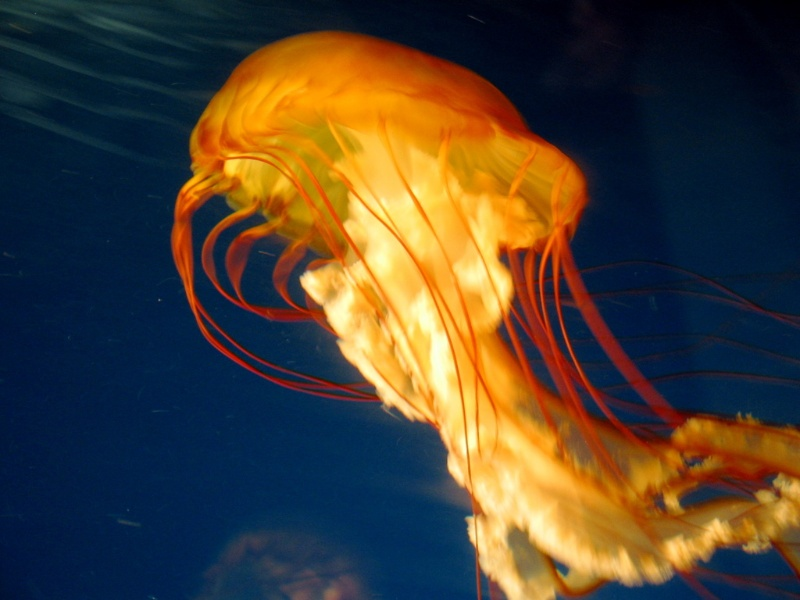Jellyfish: (167, 23, 799, 599)
